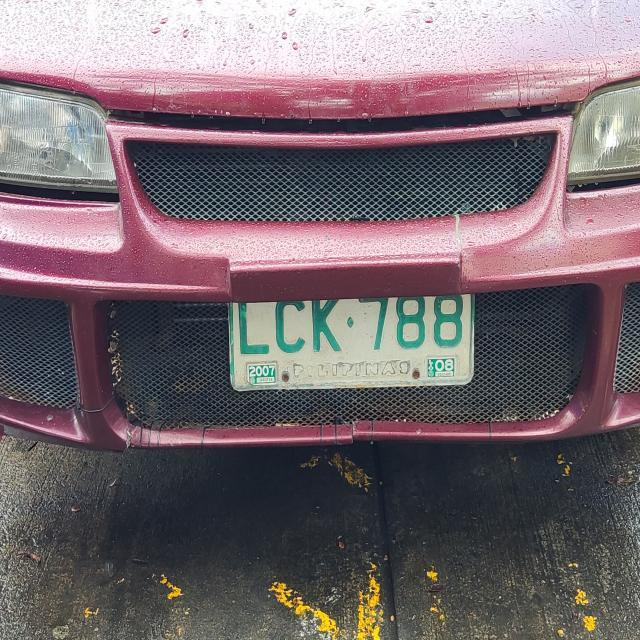LicensePlate: (224, 285, 482, 391)
